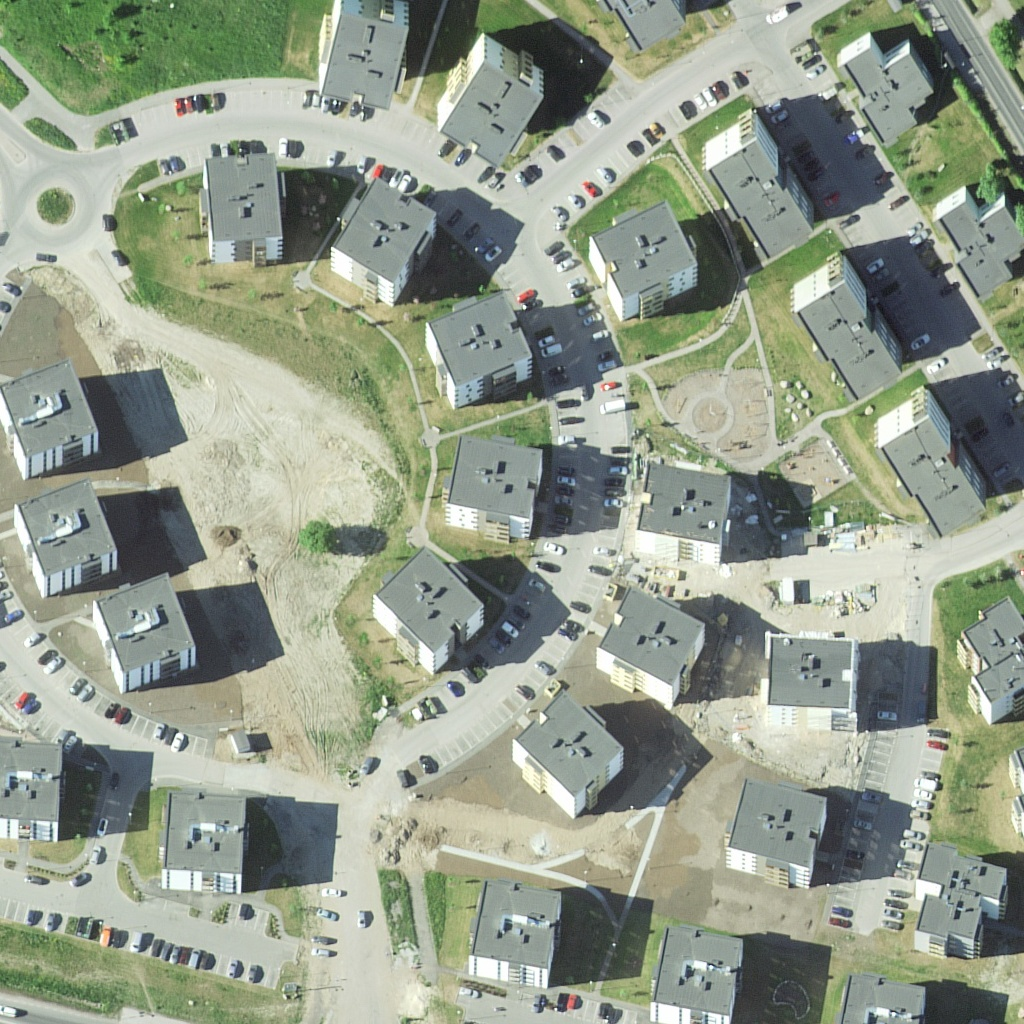building: (704, 97, 818, 268), (434, 29, 555, 172), (878, 388, 995, 529), (508, 684, 630, 813), (791, 258, 901, 398), (328, 181, 441, 306), (377, 549, 494, 669), (8, 482, 131, 596), (598, 591, 702, 725), (583, 198, 698, 318), (909, 842, 1017, 961), (96, 566, 198, 691), (728, 779, 834, 893), (427, 289, 532, 403), (471, 877, 565, 1003), (627, 456, 737, 563), (2, 359, 102, 472), (758, 629, 861, 738), (444, 435, 549, 541), (160, 786, 251, 904), (194, 153, 288, 266), (843, 32, 934, 142), (937, 178, 1024, 293), (655, 918, 749, 1024), (317, 1, 408, 108), (960, 596, 1024, 720), (1, 741, 70, 843), (835, 972, 927, 1024), (610, 1, 691, 42)
